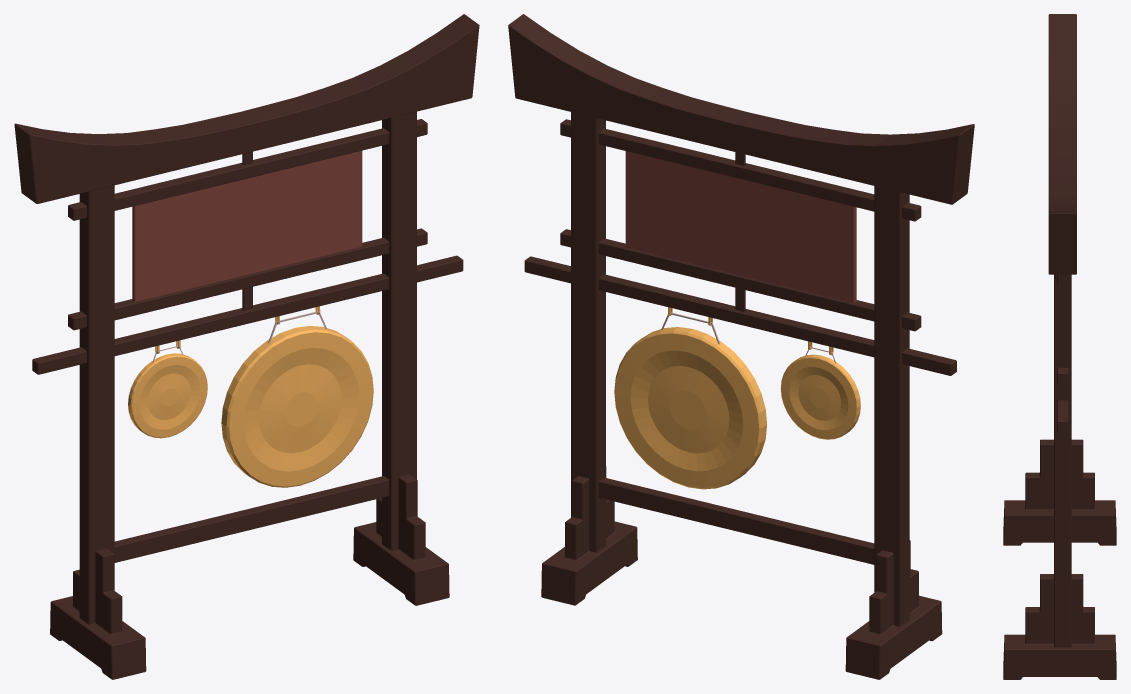
Rendered from gong_double.fbx.
3 views of the same model, side by side, from view 1: azimuth 30°, elevation 25°; view 2: azimuth 150°, elevation 25°; view 3: azimuth 270°, elevation 25° (orthographic). The views are drawn at different scales.
Parts seen in each view (by area): view 1: gong_frame, gong_sign, gong_big, gong_small; view 2: gong_frame, gong_sign, gong_big, gong_small; view 3: gong_frame.
Boxes of the visible parts, bbox=[...] form: gong_frame: bbox=[14, 14, 479, 679]; gong_sign: bbox=[132, 150, 362, 301]; gong_big: bbox=[221, 311, 373, 487]; gong_small: bbox=[128, 346, 207, 438]; gong_frame: bbox=[508, 14, 974, 679]; gong_sign: bbox=[625, 151, 856, 302]; gong_big: bbox=[614, 312, 766, 489]; gong_small: bbox=[780, 347, 860, 439]; gong_frame: bbox=[1003, 14, 1116, 679].
Size of the model in its own units: 233 by 267 by 55.83.
